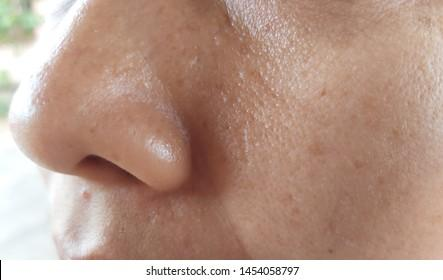Englarged-Pores: (189, 45, 319, 149)
Oily-Skin: (18, 10, 386, 280)
